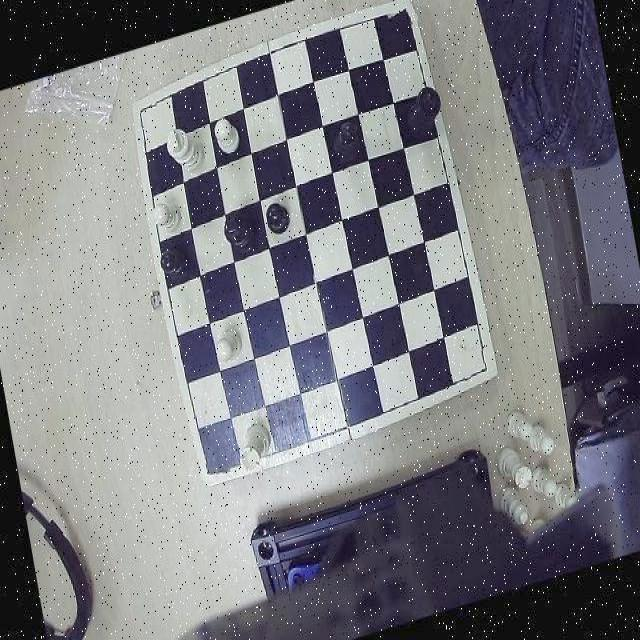chess-table-corners: (198, 446, 234, 484), (460, 347, 495, 385), (386, 0, 419, 35), (132, 96, 160, 128)
